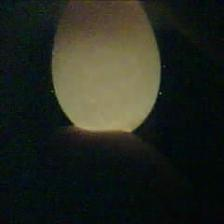infertile: (49, 0, 161, 136)
